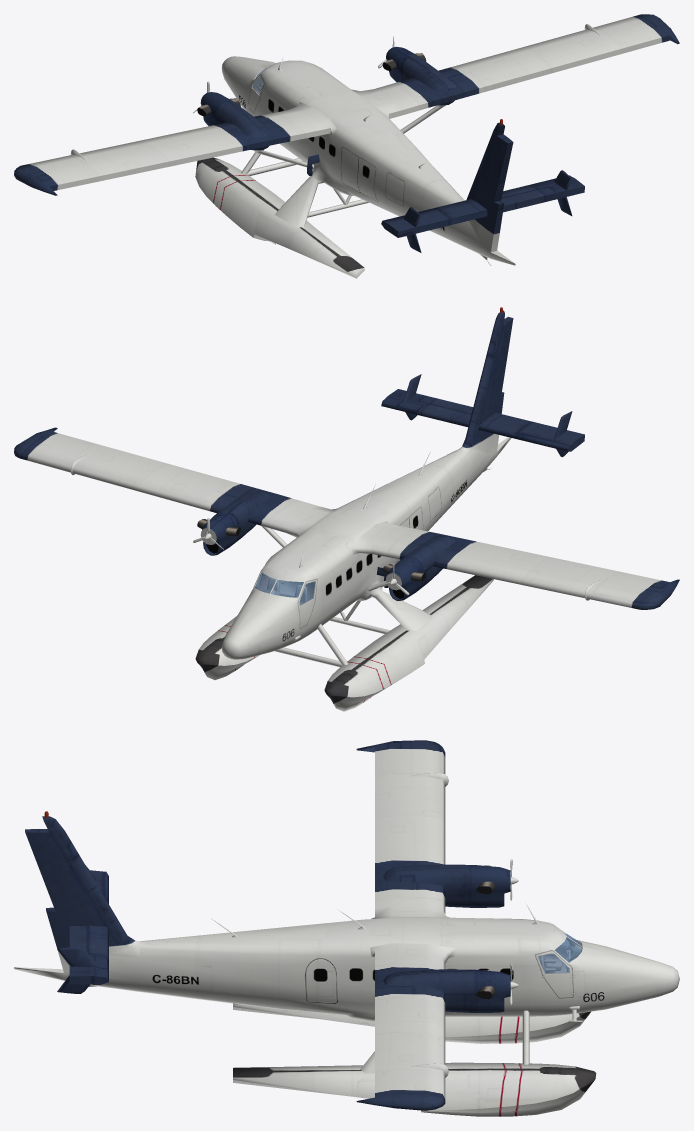
3 renders of one model, top to bottom at view 1: azimuth 30°, elevation 25°; view 2: azimuth 150°, elevation 25°; view 3: azimuth 270°, elevation 25°, orthographic. The views are drawn at different scales.
Visible parts, largest first — view 1: body_Mesh.015; view 2: body_Mesh.015, window_Mesh.006, cockpit_Mesh.014; view 3: body_Mesh.015, window_Mesh.006, cockpit_Mesh.014.
Boxes of the visible parts, x1=… form: body_Mesh.015: x1=14, y1=14, x2=679, y2=278; body_Mesh.015: x1=14, y1=307, x2=679, y2=711; window_Mesh.006: x1=255, y1=572, x2=315, y2=605; cockpit_Mesh.014: x1=254, y1=572, x2=315, y2=605; body_Mesh.015: x1=14, y1=740, x2=679, y2=1116; window_Mesh.006: x1=538, y1=933, x2=581, y2=973; cockpit_Mesh.014: x1=537, y1=938, x2=581, y2=974.
Bounding box in the file's own units: 19.83 × 6.83 × 15.33.
